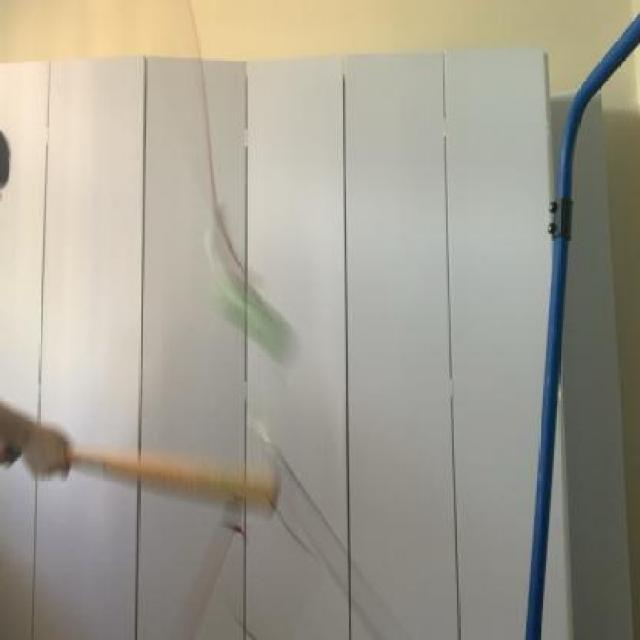baseball: (210, 262, 304, 364)
